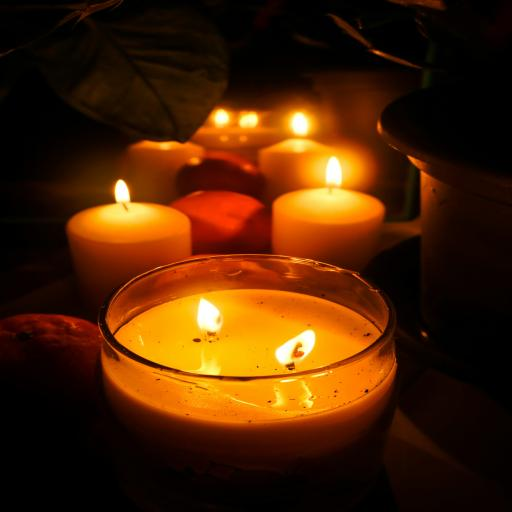candlelight: (64, 186, 193, 296), (270, 172, 387, 269), (253, 109, 362, 205), (118, 140, 204, 204), (194, 108, 283, 150), (112, 179, 134, 214), (211, 108, 230, 128)
